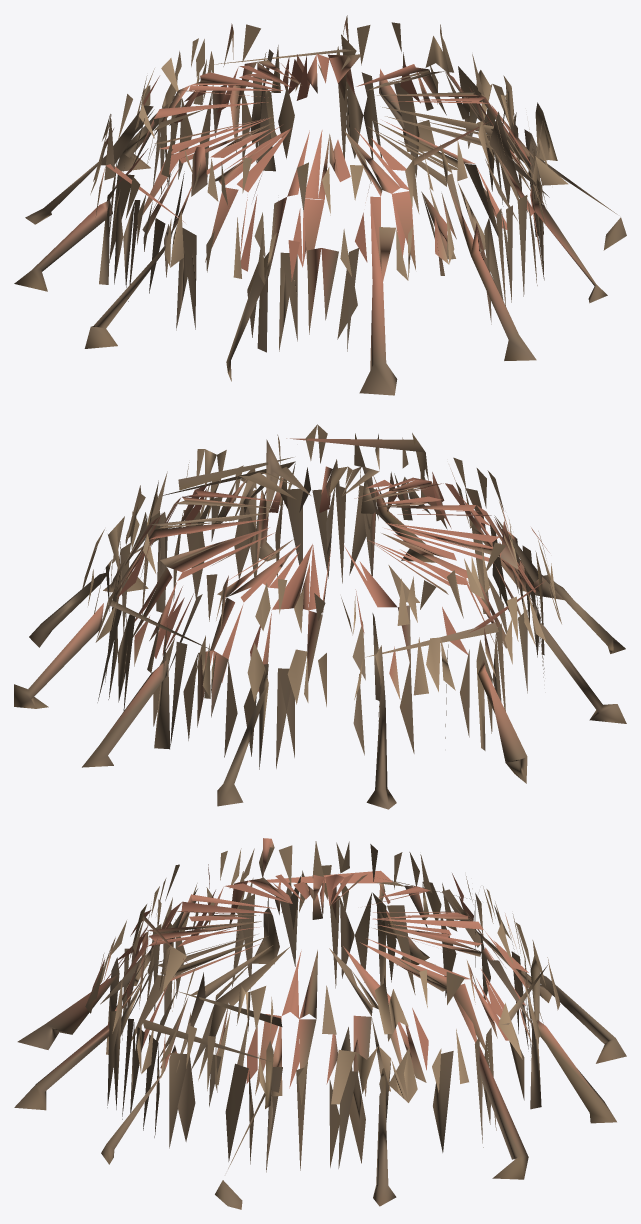
Rendered from cercado_redondo_lejos.glb.
The picture shows the model from 3 angles, top to bottom: view 1: azimuth 30°, elevation 25°; view 2: azimuth 150°, elevation 25°; view 3: azimuth 270°, elevation 25°; orthographic projection. The views are drawn at different scales.
Parts seen in each view (by area): view 1: cercado_redondo_lejos; view 2: cercado_redondo_lejos; view 3: cercado_redondo_lejos.
Boxes of the visible parts, x1,y1,x2,y2 form: cercado_redondo_lejos: (14,15,626,395); cercado_redondo_lejos: (14,424,626,809); cercado_redondo_lejos: (14,838,626,1209).
Bounding box in the file's own units: 14.34 × 4.77 × 14.51.
